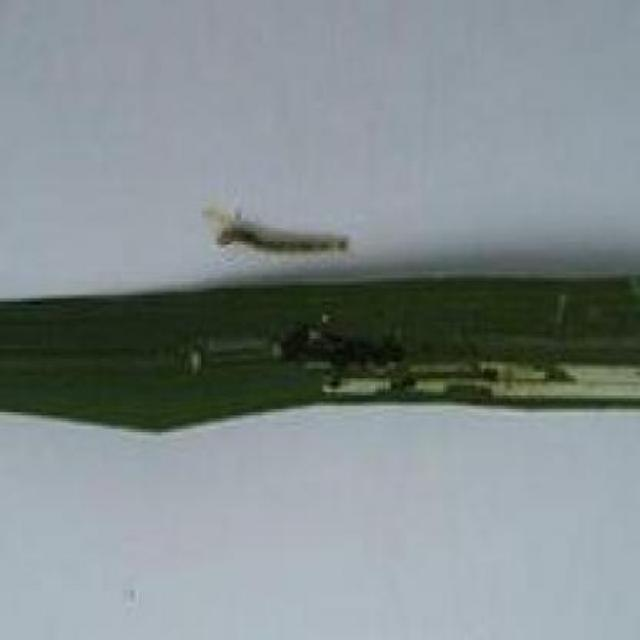leaf-folder: (195, 183, 374, 279)
